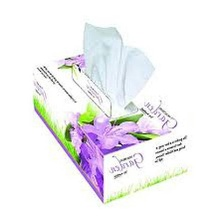book: (26, 47, 198, 209)
tissue: (76, 13, 162, 115)
